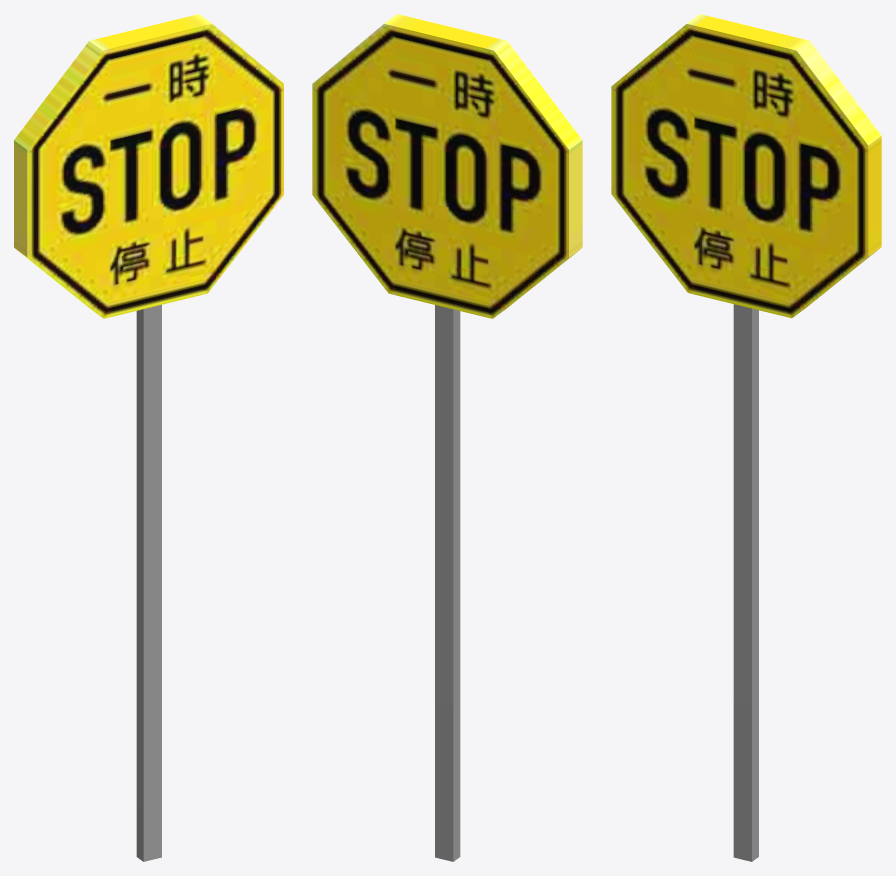
3 renders of one model, left to right at view 1: azimuth 30°, elevation 25°; view 2: azimuth 150°, elevation 25°; view 3: azimuth 330°, elevation 25°, orthographic.
Parts seen in each view (by area): view 1: AsianStopSign.002; view 2: AsianStopSign.002; view 3: AsianStopSign.002.
Boxes of the visible parts, left/top/right/bottom form: AsianStopSign.002: left=14, top=14, right=283, bottom=861; AsianStopSign.002: left=312, top=14, right=582, bottom=861; AsianStopSign.002: left=611, top=14, right=881, bottom=861.
Size of what is drawn, in the model's own units: 0.6735 by 2.07 by 0.0608.
2 materials, 2 textured.
